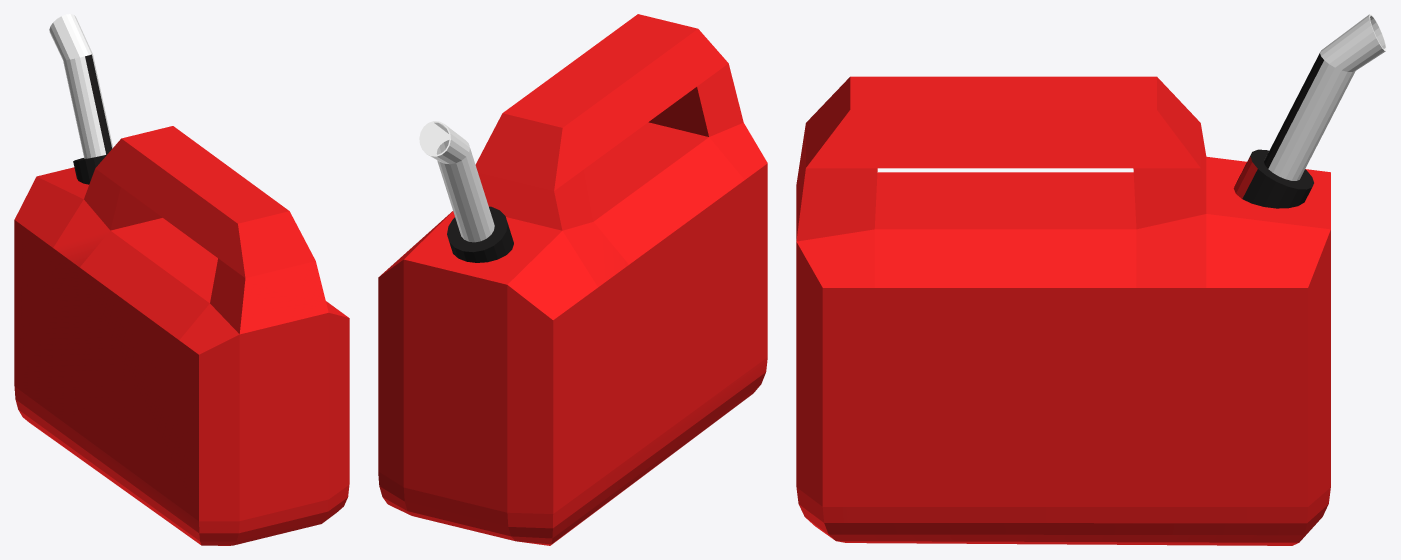
File: Bidon.fbx
3 views of the same model, side by side, from view 1: azimuth 30°, elevation 25°; view 2: azimuth 150°, elevation 25°; view 3: azimuth 270°, elevation 25° (orthographic). The views are drawn at different scales.
Parts seen in each view (by area): view 1: Bidon; view 2: Bidon; view 3: Bidon.
Boxes of the visible parts, left/top/right/bottom form: Bidon: left=14, top=14, right=349, bottom=545; Bidon: left=378, top=14, right=767, bottom=545; Bidon: left=796, top=14, right=1386, bottom=545.
Size of the model in its own units: 25.03 by 59.1 by 64.63.
